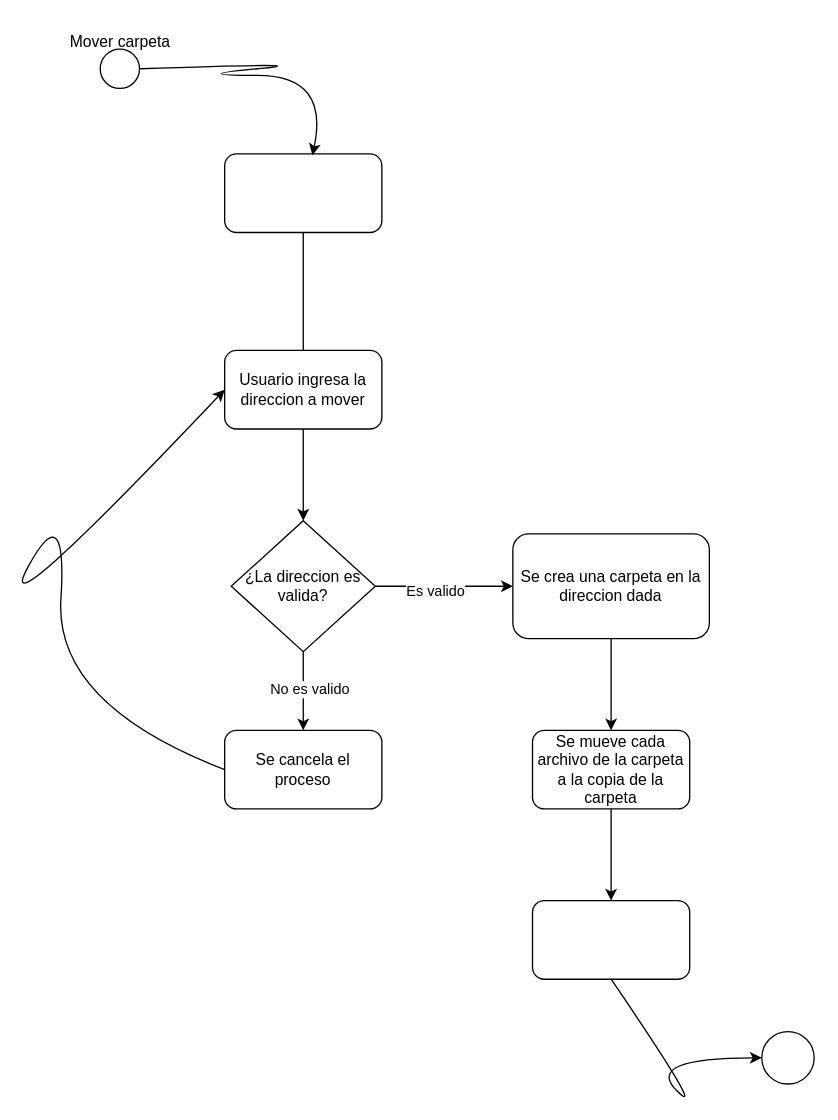
This 838x1120 diagram has some shape labels left out. The shapes that lost their labels are listed below. From the top down, each one's box as (x1, y1, x2, y2) in pixels, then its label:
(223, 153, 382, 233): Usuario selecciona carpeta
(531, 899, 690, 979): Se borra la carpeta en la direccion actual y su contenido
